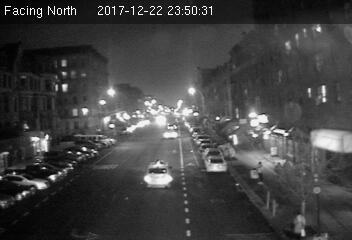car: (143, 159, 173, 189), (203, 155, 228, 174), (161, 129, 179, 140)
